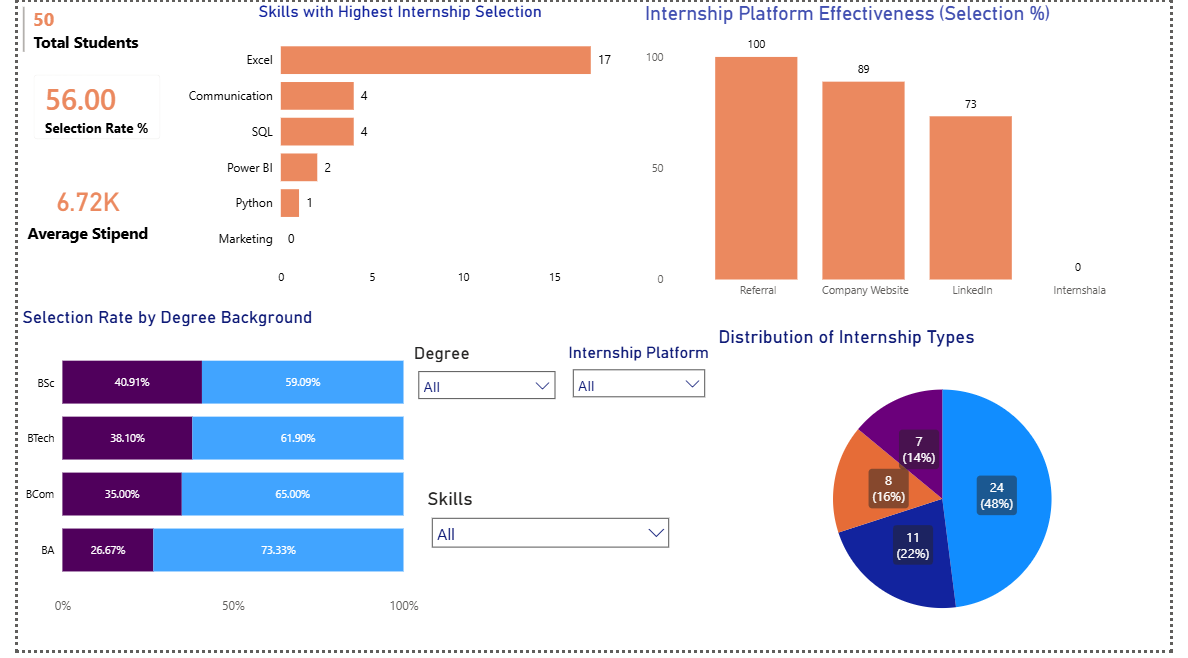

Layout of this report page (visuals, bound fields, positions):
{"tool":"powerbi","page":{"name":"CARD","canvas":[1280,720],"ordinal":0},"visuals":[{"type":"multiRowCard","title":"OVERVIEW","fields":{"Values":["Student Internship Project.Total Students"]},"box":[0,0,186.7,76.7],"z":0},{"type":"cardVisual","fields":{"Data":["Student Internship Project.Selection Rate %"]},"box":[0,63.3,175.6,106.7],"z":1000},{"type":"card","fields":{"Values":["Student Internship Project.Average Stipend"]},"box":[0,182.2,154.4,100],"z":2000},{"type":"barChart","title":"Skills with Highest Internship Selection","fields":{"Y":["Student Internship Project.Selected Students"],"Category":["Student Internship Project.Skills.1","Student Internship Project.Skills.2","Student Internship Project.Skills.3"]},"box":[176,0,496,324],"z":3000},{"type":"columnChart","title":" Internship Platform Effectiveness (Selection %)","fields":{"Category":["Student Internship Project.InternshipPlatform"],"Y":["Student Internship Project.Selection Rate %"]},"box":[692,0,588,338],"z":4000},{"type":"hundredPercentStackedBarChart","title":"Selection Rate by Degree Background","fields":{"Category":["Student Internship Project.Degree"],"Y":["Student Internship Project.Selected Students","Student Internship Project.Total Students"]},"box":[0,338,450,352],"z":5000},{"type":"pieChart","title":"Distribution of Internship Types","fields":{"Category":["Student Internship Project.InternshipType"],"Y":["CountNonNull(Student Internship Project.StudentID)"]},"box":[773.3,360,506.7,360],"z":6000},{"type":"slicer","title":"Degree","fields":{"Values":["Student Internship Project.Degree"]},"box":[435,378.3,171.7,151.7],"z":7000},{"type":"slicer","title":"Internship Platform","fields":{"Values":["Student Internship Project.InternshipPlatform"]},"box":[606.7,378.3,166.7,161.7],"z":8000},{"type":"slicer","title":"Skills","fields":{"Values":["Student Internship Project.Skills.1","Student Internship Project.Skills.2","Student Internship Project.Skills.3"]},"box":[450,540,283.3,150],"z":9000}]}

Visuals, with their boxes in screenshot pixels (x1, y1, x2, y2), scaled from the page's 1280x720 canvas onto the 1188x658 screenshot:
"OVERVIEW" multiRowCard: locate(0, 0, 173, 70)
cardVisual - Student Internship Project.Selection Rate %: locate(0, 58, 163, 155)
card - Student Internship Project.Average Stipend: locate(0, 167, 143, 258)
"Skills with Highest Internship Selection" barChart: locate(163, 0, 624, 296)
" Internship Platform Effectiveness (Selection %)" columnChart: locate(642, 0, 1187, 309)
"Selection Rate by Degree Background" hundredPercentStackedBarChart: locate(0, 309, 418, 631)
"Distribution of Internship Types" pieChart: locate(718, 329, 1187, 657)
"Degree" slicer: locate(404, 346, 563, 484)
"Internship Platform" slicer: locate(563, 346, 718, 494)
"Skills" slicer: locate(418, 494, 681, 631)
